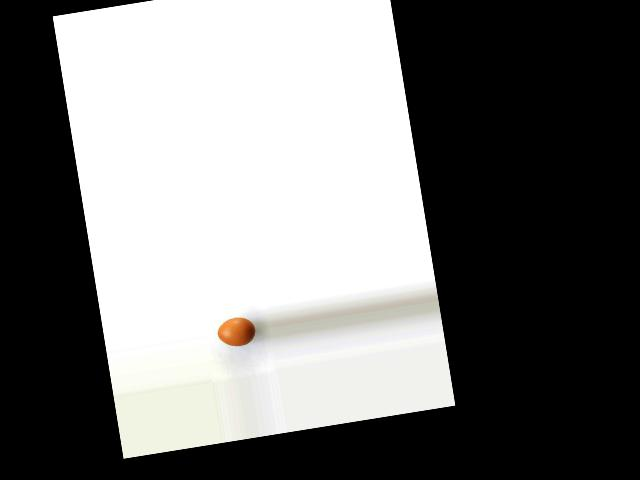egg: (215, 315, 258, 349)
